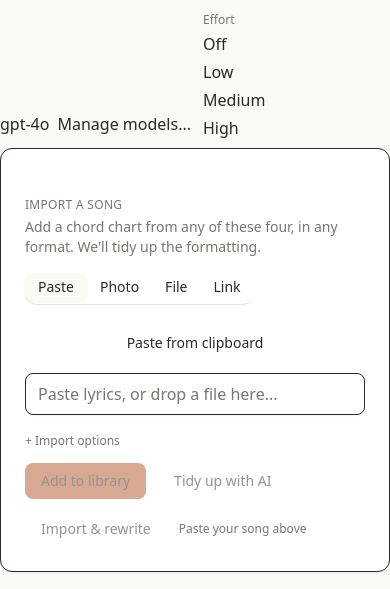
Test case: RewriteTab › hides paste-from-clipboard button after text is entered
The width and height of the screenshot is (390, 589).
Expected: the button "Paste from clipboard" is shown, top-left (25, 325), bottom-right (365, 361)
In the text box with placeholder "Paste lyrics, or drop a file here...": [195, 394] box top-left (25, 373), bottom-right (365, 415), type "Some lyrics"
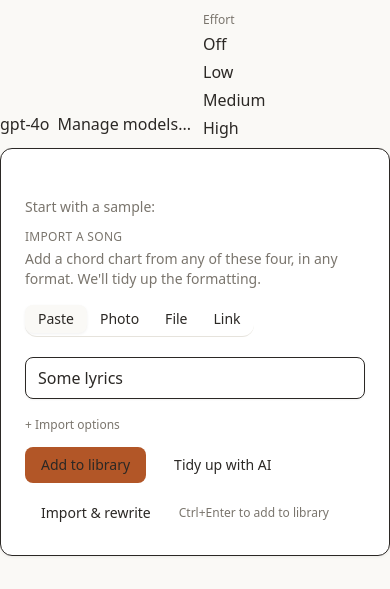
Expected: the button "Paste from clipboard" is gone
